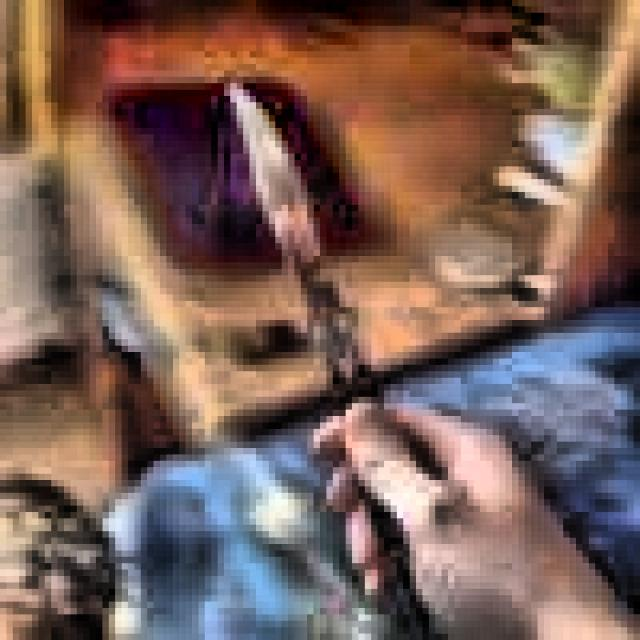knife: (227, 90, 442, 634)
